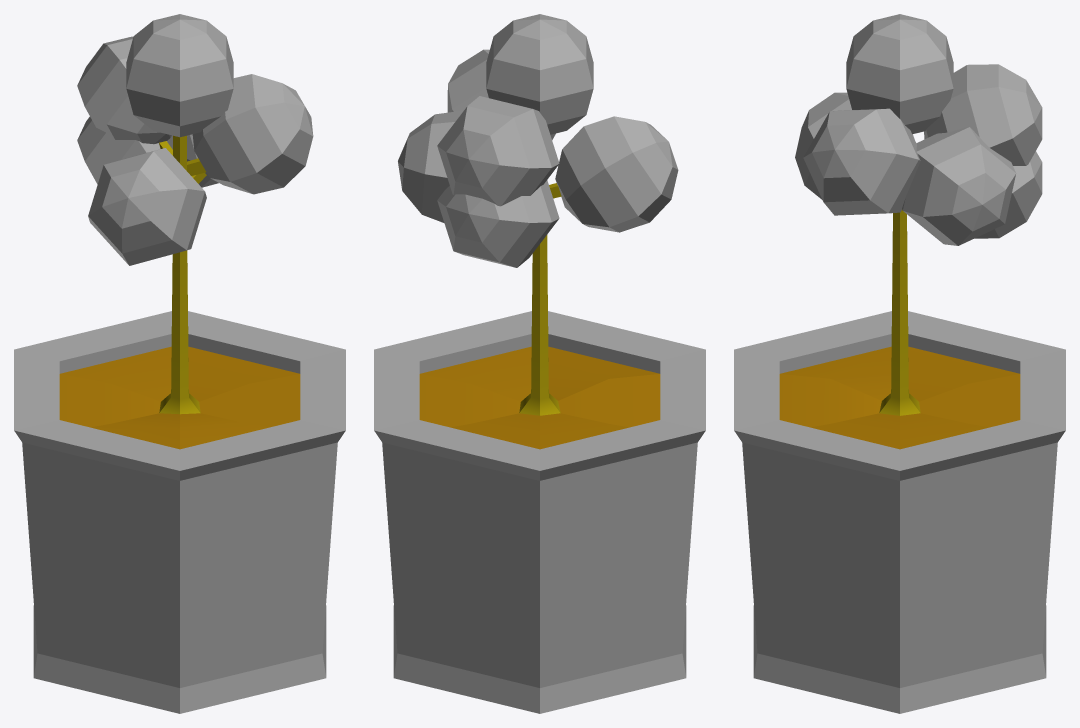
The model's file is Plant.fbx.
The picture shows the model from 3 angles, left to right: view 1: azimuth 30°, elevation 25°; view 2: azimuth 150°, elevation 25°; view 3: azimuth 270°, elevation 25°; orthographic projection.
Parts seen in each view (by area): view 1: pCylinder4; view 2: pCylinder4; view 3: pCylinder4.
Part boxes in pixels (left/top/right/bottom): pCylinder4: left=14, top=14, right=345, bottom=713; pCylinder4: left=374, top=14, right=705, bottom=713; pCylinder4: left=734, top=14, right=1065, bottom=713.
Size of the model in its own units: 1.38 by 2.47 by 1.19.
